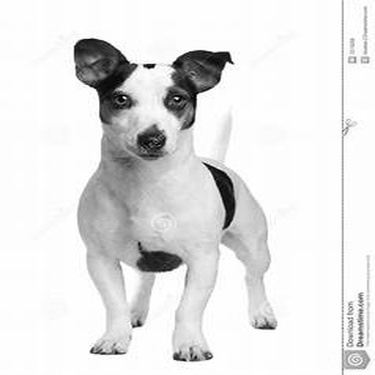dog: (52, 31, 276, 362)
